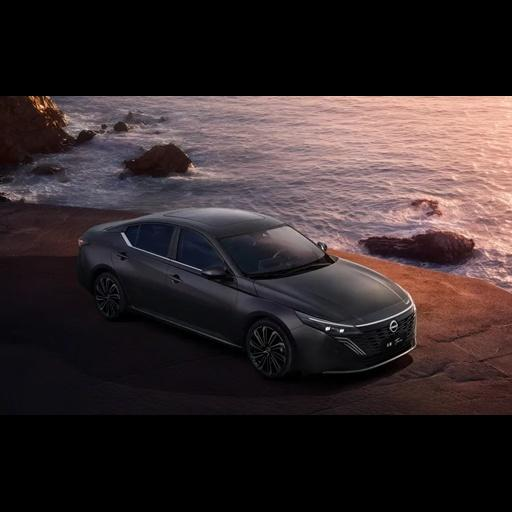sedan: (77, 208, 416, 377)
